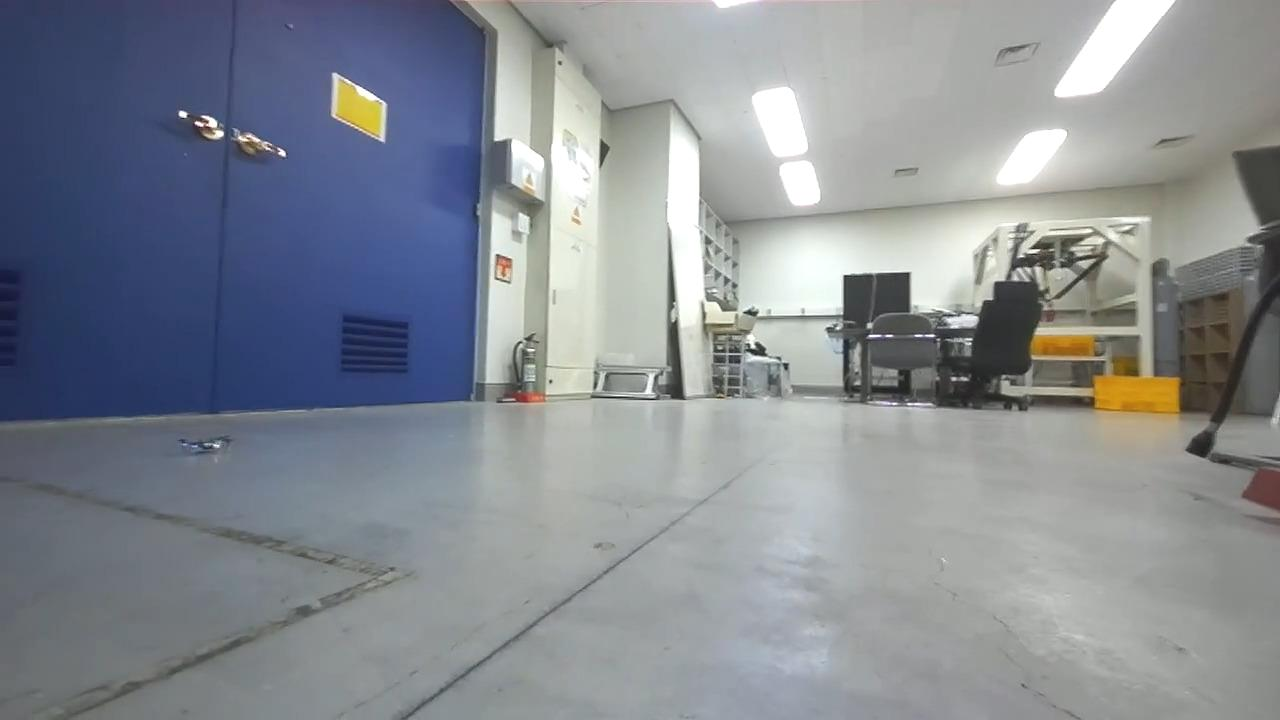crazyflie: (167, 429, 243, 461)
